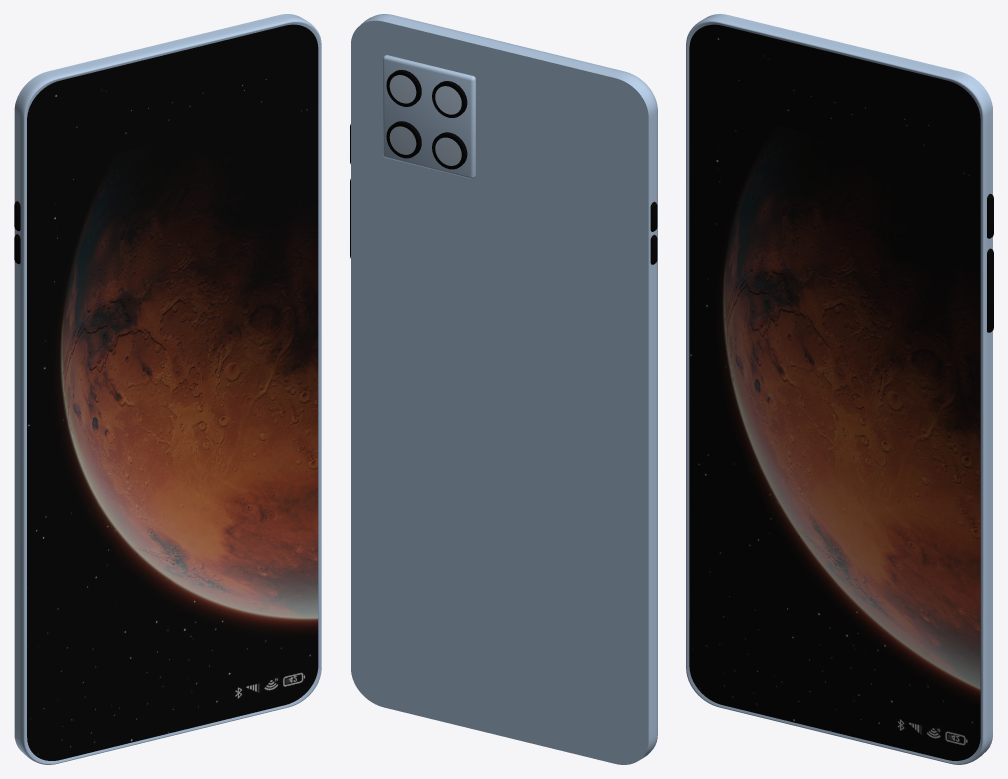
The model's file is Mobile.glb.
3 views of the same model, side by side, from view 1: azimuth 30°, elevation 25°; view 2: azimuth 150°, elevation 25°; view 3: azimuth 330°, elevation 25° (orthographic).
Parts seen in each view (by area): view 1: Loft-Mat.2, Loft-Material.009; view 2: Loft-Material.009, Cube.4, Cylinder-Mat.1, Cylinder.1-Mat.1, Cylinder.3-Mat.1, Cylinder.2-Mat.1; view 3: Loft-Mat.2, Loft-Material.009, Cube.1.
Boxes of the visible parts, left/top/right/bottom form: Loft-Mat.2: left=27, top=24, right=318, bottom=760; Loft-Material.009: left=14, top=14, right=321, bottom=764; Loft-Material.009: left=351, top=14, right=657, bottom=764; Cube.4: left=383, top=55, right=475, bottom=178; Cylinder-Mat.1: left=435, top=86, right=461, bottom=114; Cylinder.1-Mat.1: left=390, top=75, right=415, bottom=103; Cylinder.3-Mat.1: left=390, top=126, right=415, bottom=154; Cylinder.2-Mat.1: left=435, top=138, right=461, bottom=165; Loft-Mat.2: left=689, top=24, right=980, bottom=760; Loft-Material.009: left=686, top=14, right=992, bottom=764; Cube.1: left=987, top=248, right=993, bottom=332.
Bounding box in the file's own units: 9.23 × 19.82 × 0.7774.
15 materials, 1 textured.
